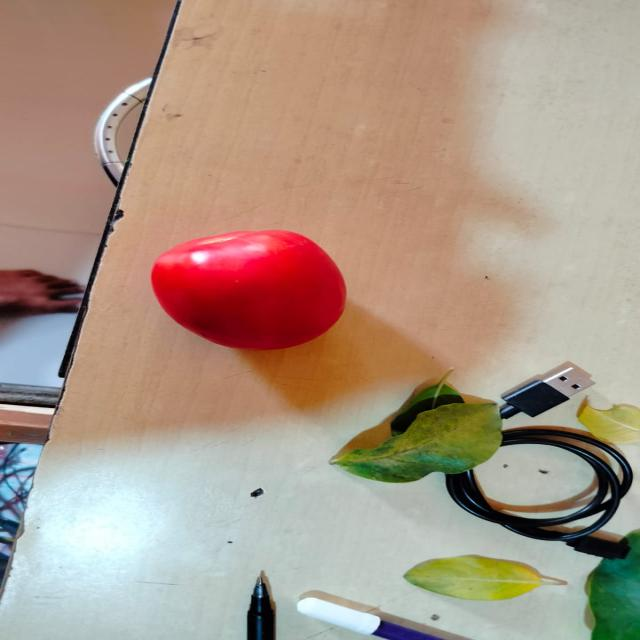Leaves: (331, 384, 487, 486), (403, 556, 567, 604), (586, 534, 640, 640), (578, 405, 640, 465)
tomato: (150, 230, 350, 354)
